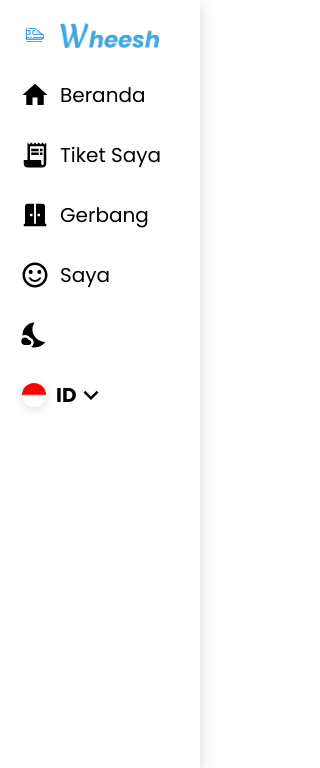
Test: Component Navbar › Should render Language Menu when Toggle Language is clicked
The width and height of the screenshot is (320, 768).
Click the element with test id "ToggleLang".
click(64, 395)  # box [22, 380, 106, 410]
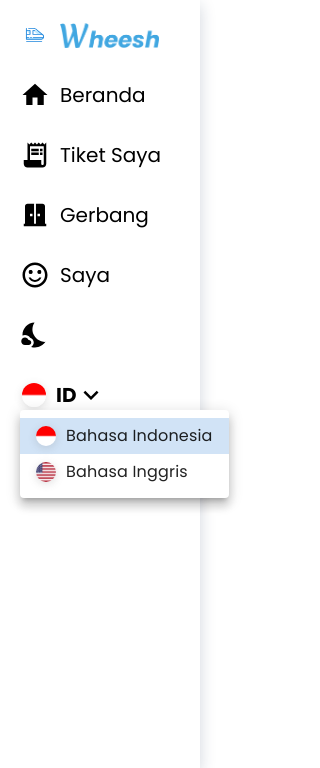
Expected: the element with test id "MenuLang" is shown, [20, 410, 229, 498]
